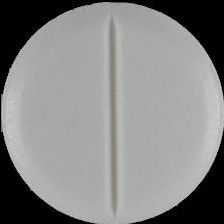61786-826: (0, 0, 224, 224)
